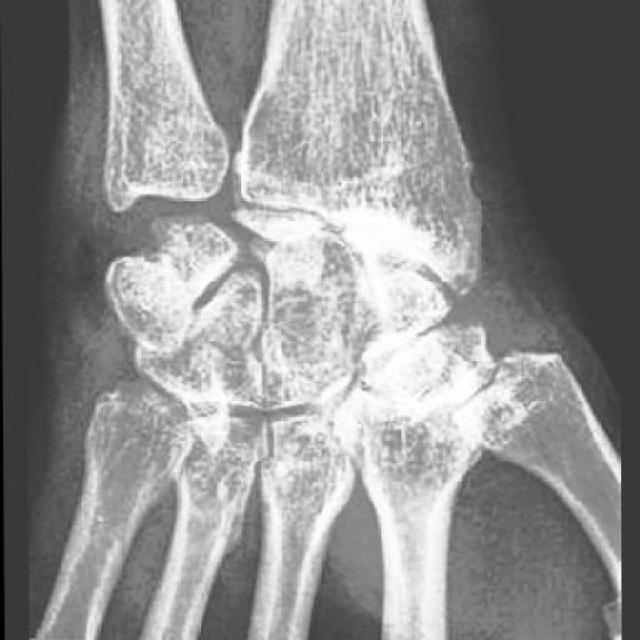Fracture: (237, 211, 325, 284)
